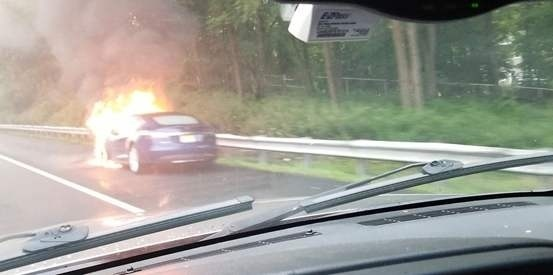fire: (81, 77, 170, 169)
